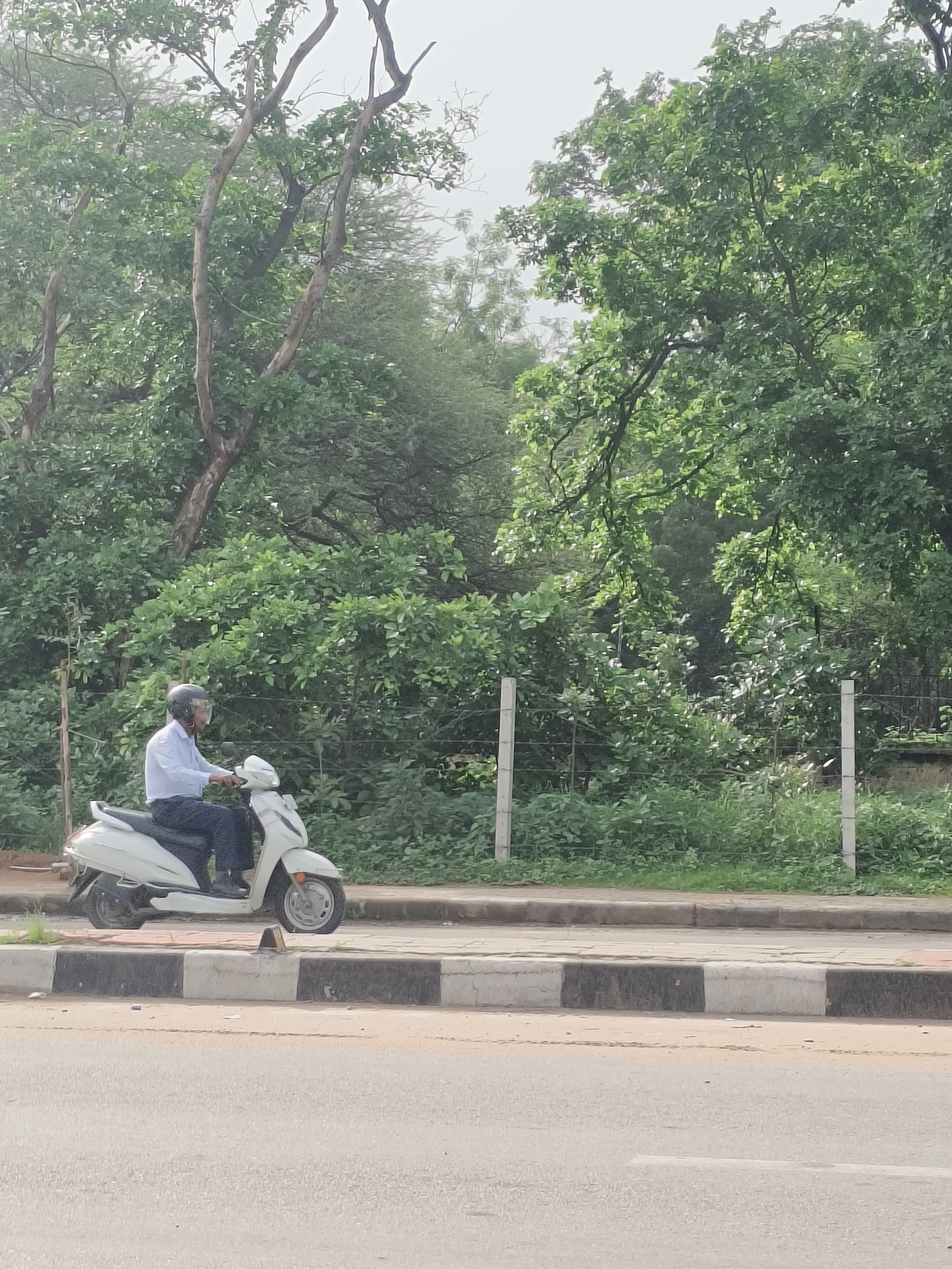BikeWithRider: (54, 678, 350, 937)
Helmet: (161, 680, 216, 739)
